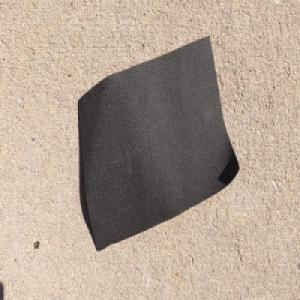PaintChip: (78, 35, 241, 255)
